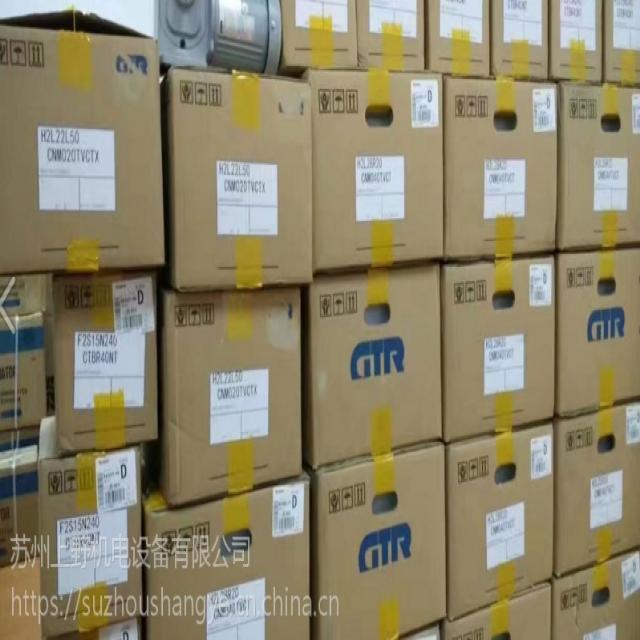box: (0, 9, 164, 277), (145, 286, 302, 509), (160, 65, 314, 290), (304, 264, 444, 471), (301, 70, 443, 271), (144, 469, 310, 640), (312, 442, 446, 640), (39, 416, 144, 639), (444, 422, 553, 623), (441, 255, 556, 443), (443, 75, 557, 258), (53, 273, 158, 449), (553, 403, 640, 577), (557, 250, 639, 419), (557, 82, 639, 250), (553, 548, 639, 639), (441, 583, 551, 639), (278, 0, 358, 75), (0, 314, 47, 432), (0, 446, 38, 567), (358, 0, 424, 69), (491, 0, 548, 79), (549, 0, 602, 83), (0, 555, 41, 639), (603, 0, 640, 85), (0, 276, 47, 314), (64, 617, 141, 640), (47, 277, 55, 415), (1, 428, 40, 451), (394, 626, 440, 640)
